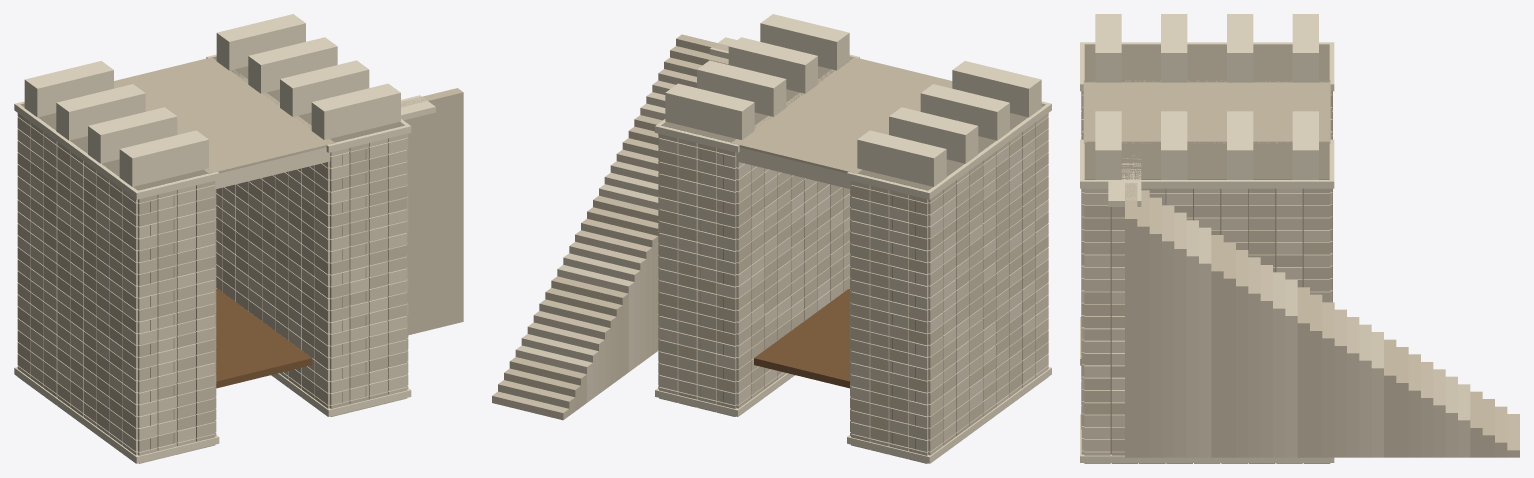
3 views of the same model, side by side, from view 1: azimuth 30°, elevation 25°; view 2: azimuth 150°, elevation 25°; view 3: azimuth 270°, elevation 25° (orthographic). The views are drawn at different scales.
Visible parts, largest first — view 1: Bergfried – Steine, Säulen, Ziegel und Feuerstelle; view 2: Bergfried – Steine, Säulen, Ziegel und Feuerstelle; view 3: Bergfried – Steine, Säulen, Ziegel und Feuerstelle.
Boxes of the visible parts, box(x1,y1,x2,y2) form: Bergfried – Steine, Säulen, Ziegel und Feuerstelle: box(14, 14, 463, 463); Bergfried – Steine, Säulen, Ziegel und Feuerstelle: box(492, 14, 1051, 463); Bergfried – Steine, Säulen, Ziegel und Feuerstelle: box(1080, 14, 1519, 463).
Size of the model in its own units: 1271 by 1050 by 1336.
